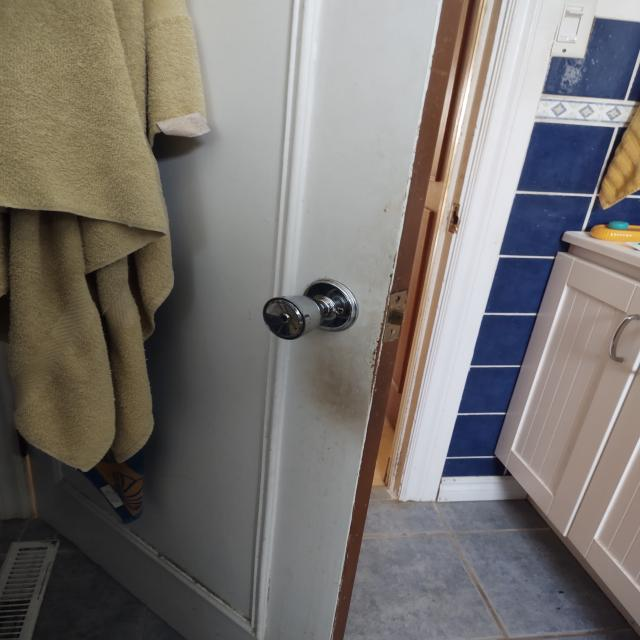door-knob: (264, 279, 357, 340)
